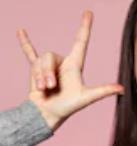back: (13, 10, 125, 115)
